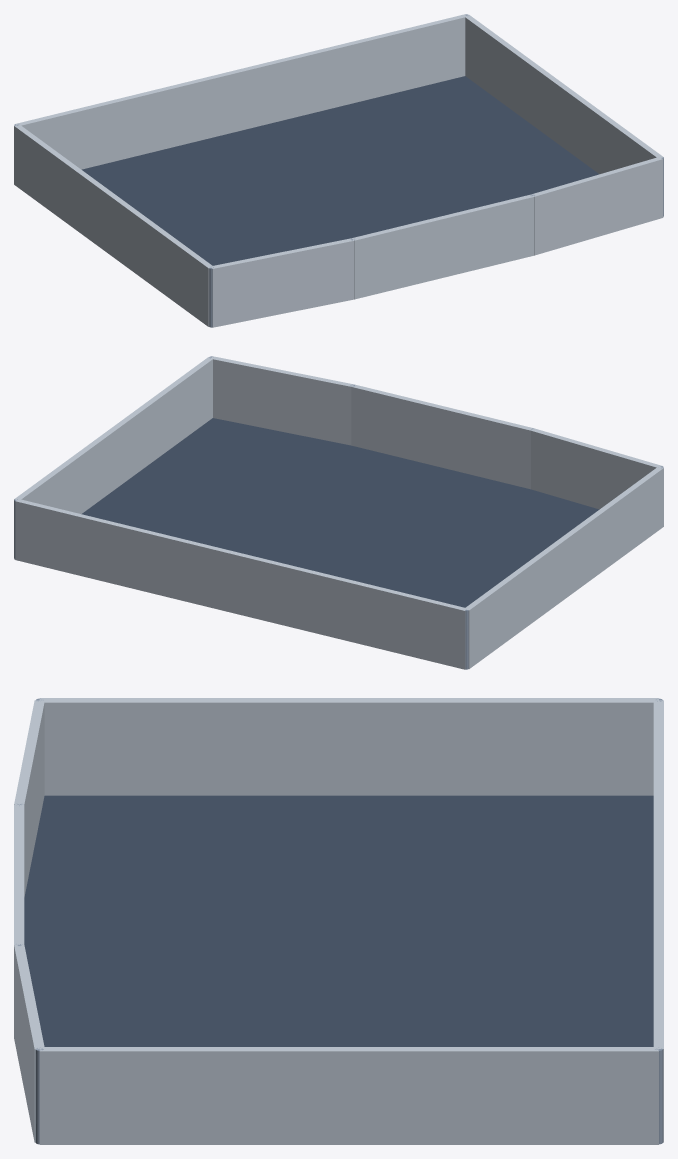
3 views of the same model, one above another, from view 1: azimuth 30°, elevation 25°; view 2: azimuth 150°, elevation 25°; view 3: azimuth 270°, elevation 25° (orthographic). The views are drawn at different scales.
Visible parts, largest first — view 1: room-content; view 2: room-content; view 3: room-content.
Part boxes in pixels (box(x1,y1,x2,y2)): room-content: box(14, 14, 663, 327); room-content: box(14, 356, 663, 669); room-content: box(14, 698, 663, 1144).
Size of the model in its own units: 40.5 by 5 by 31.5.
